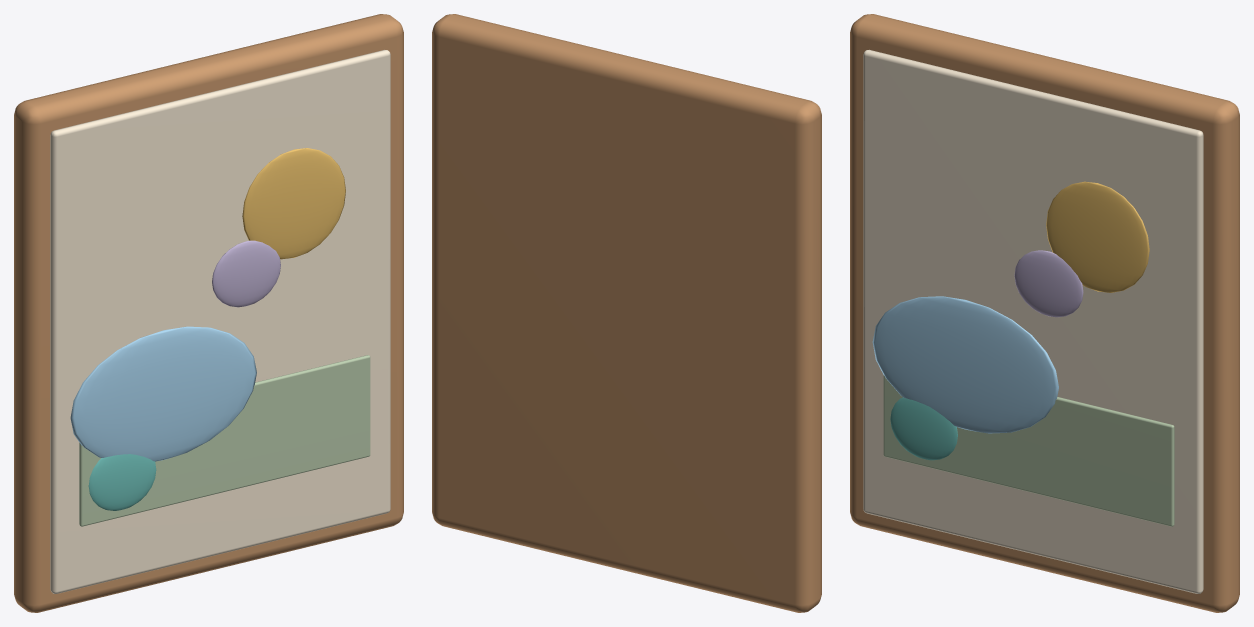
The model's file is japaneseCanvasLetters.glb.
The picture shows the model from 3 angles, left to right: view 1: azimuth 30°, elevation 25°; view 2: azimuth 150°, elevation 25°; view 3: azimuth 330°, elevation 25°; orthographic projection.
Parts seen in each view (by area): view 1: Paper, Frame, Landscape, Landscape hill, Illustrated sun, Abstract motif.002, Abstract motif; view 2: Frame; view 3: Paper, Frame, Landscape, Landscape hill, Illustrated sun, Abstract motif.002, Abstract motif.
Part boxes in pixels (box(x1,y1,x2,y2)): Paper: box(50, 49, 390, 593); Frame: box(14, 14, 403, 612); Landscape: box(79, 355, 370, 526); Landscape hill: box(70, 326, 256, 461); Illustrated sun: box(242, 148, 345, 259); Abstract motif.002: box(212, 240, 280, 307); Abstract motif: box(88, 454, 156, 510); Frame: box(432, 14, 821, 612); Paper: box(863, 49, 1203, 593); Frame: box(850, 14, 1239, 612); Landscape: box(883, 375, 1174, 526); Landscape hill: box(872, 296, 1058, 433); Illustrated sun: box(1046, 181, 1149, 292); Abstract motif.002: box(1014, 250, 1083, 317); Abstract motif: box(890, 397, 957, 460).
Size of the model in its own units: 1.1 by 1.4 by 0.15.
